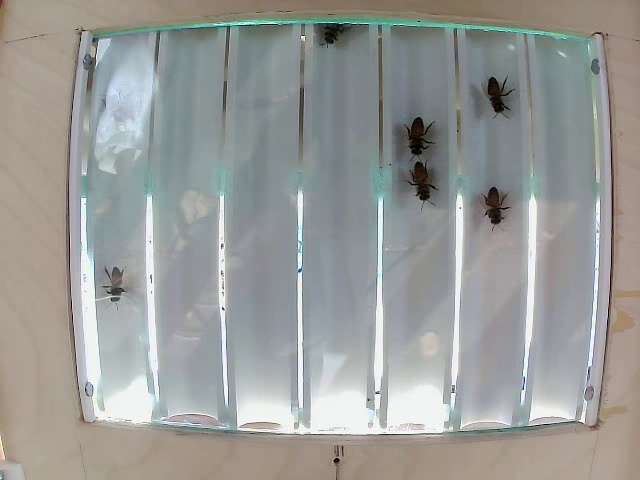bee: (475, 70, 516, 131), (408, 158, 443, 211), (401, 114, 438, 154), (104, 252, 135, 294), (481, 184, 507, 225), (333, 22, 360, 57)
